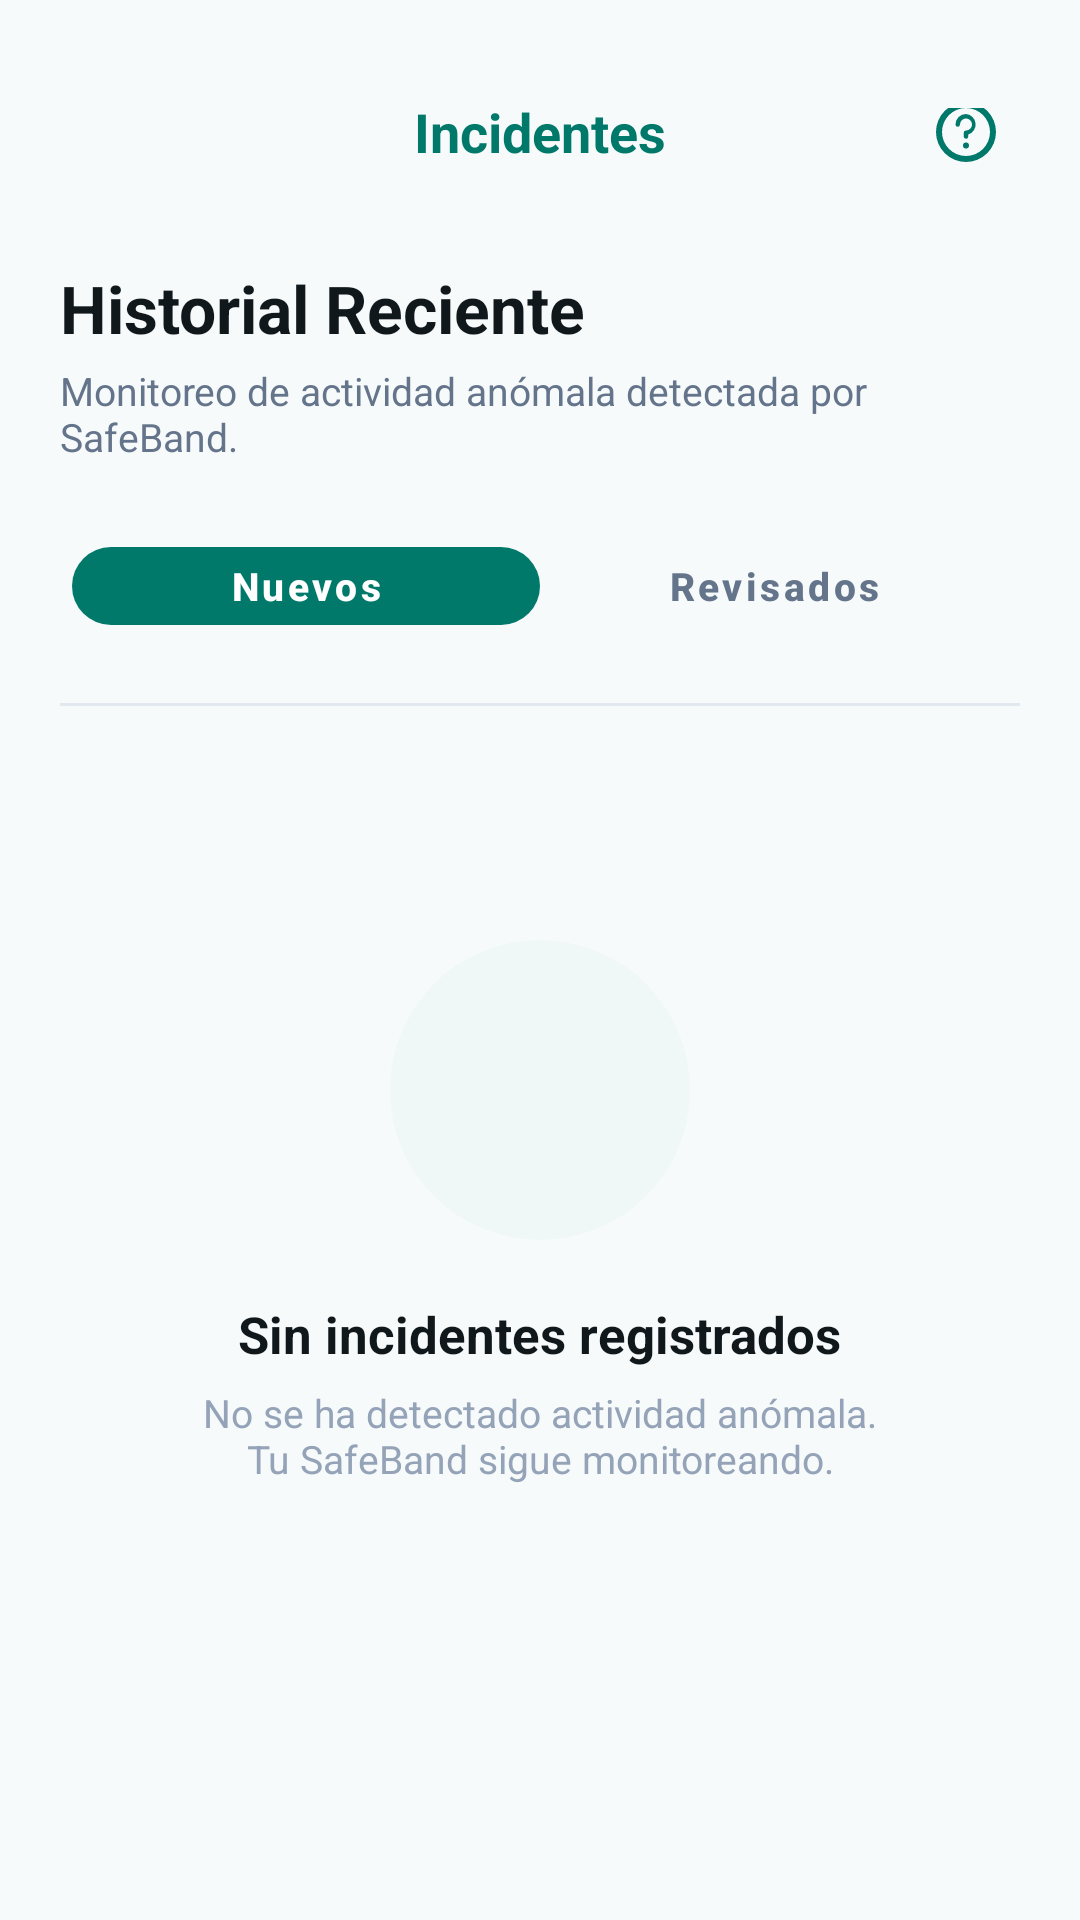

Icon bounding boxes for this 1080×1920 phone screenshot, format [x1,y1,x2,y2]:
Ayuda: [936,108,996,162]
